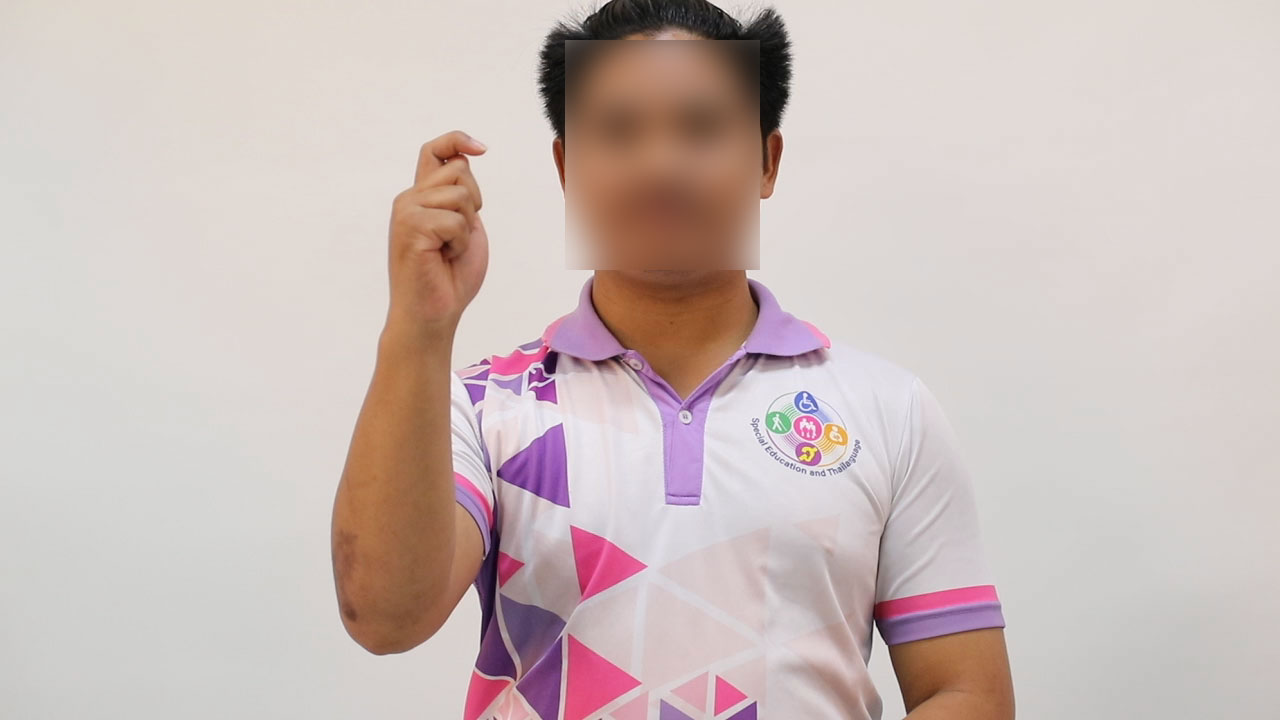or: (385, 127, 499, 360)
